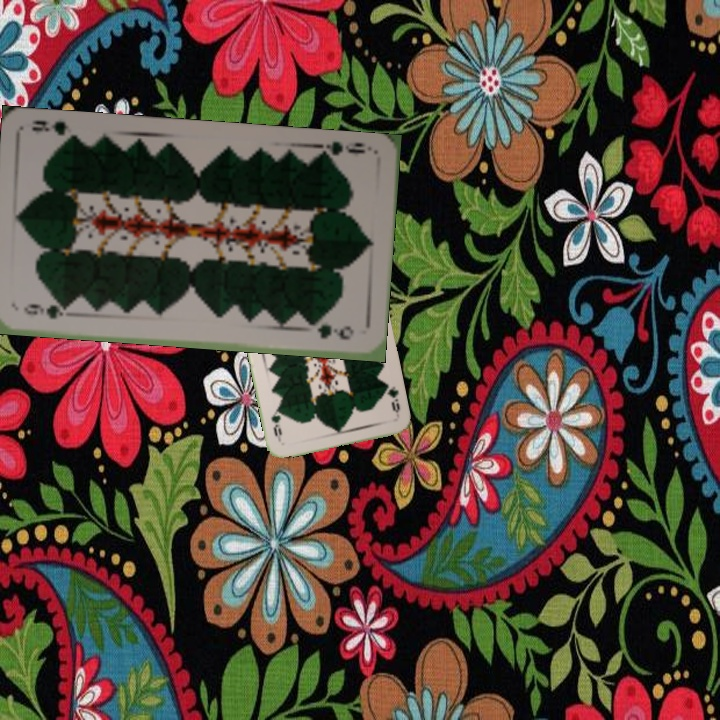G9: (314, 137, 368, 164), (19, 300, 72, 322), (381, 380, 402, 416)
